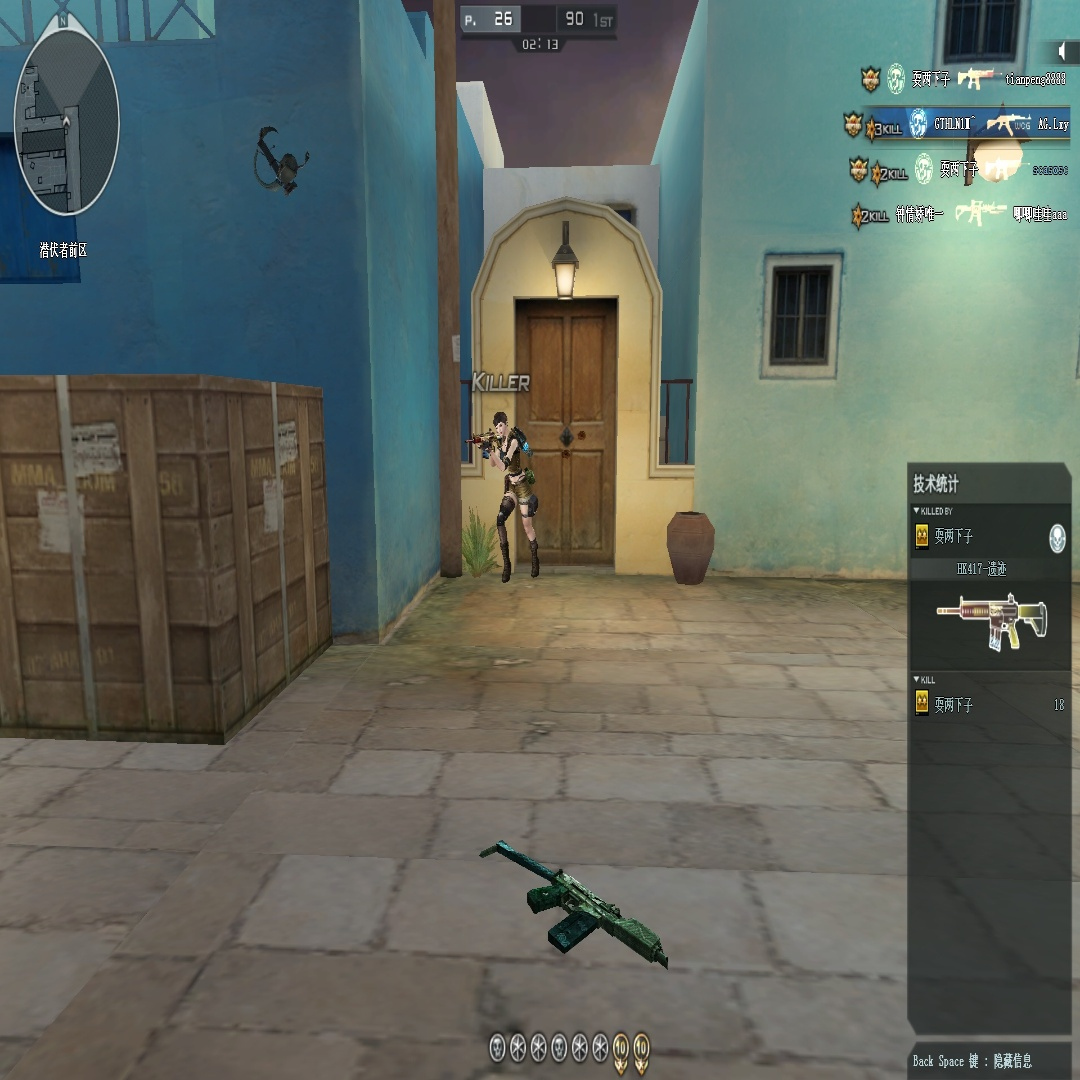head: (493, 409, 510, 438)
p: (470, 405, 539, 585)
